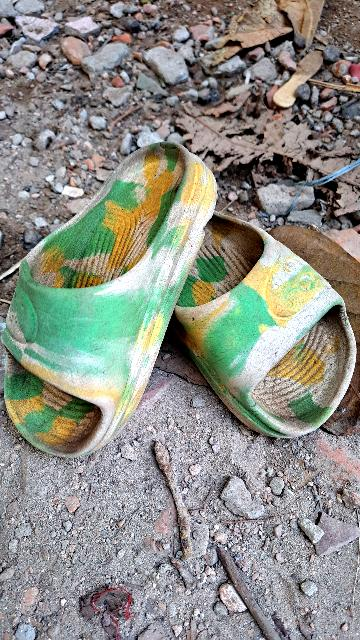sandal: (0, 108, 226, 466), (130, 202, 360, 476)
